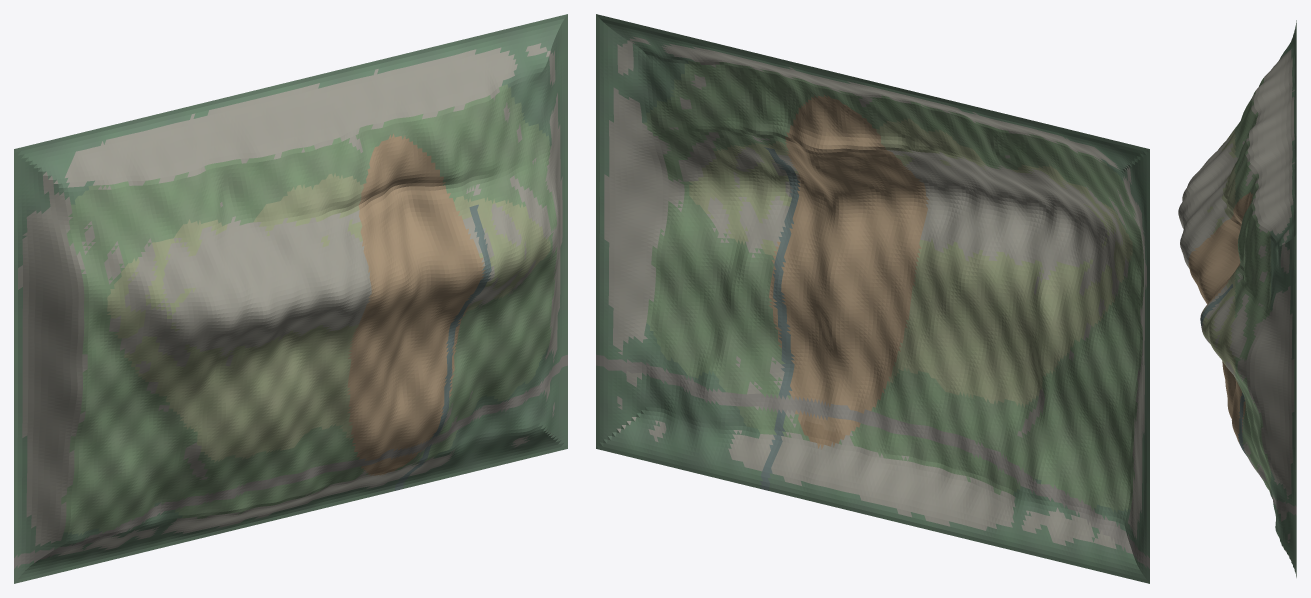
File: mountain-demo.glb
3 renders of one model, left to right at view 1: azimuth 30°, elevation 25°; view 2: azimuth 150°, elevation 25°; view 3: azimuth 270°, elevation 25°, orthographic. The views are drawn at different scales.
Parts seen in each view (by area): view 1: MountainTerrain; view 2: MountainTerrain; view 3: MountainTerrain.
Part boxes in pixels (<box>): MountainTerrain: <box>14,14,567,583</box>; MountainTerrain: <box>596,14,1149,583</box>; MountainTerrain: <box>1178,20,1296,577</box>.
Bounding box in the file's own units: 320 × 240 × 73.28.
